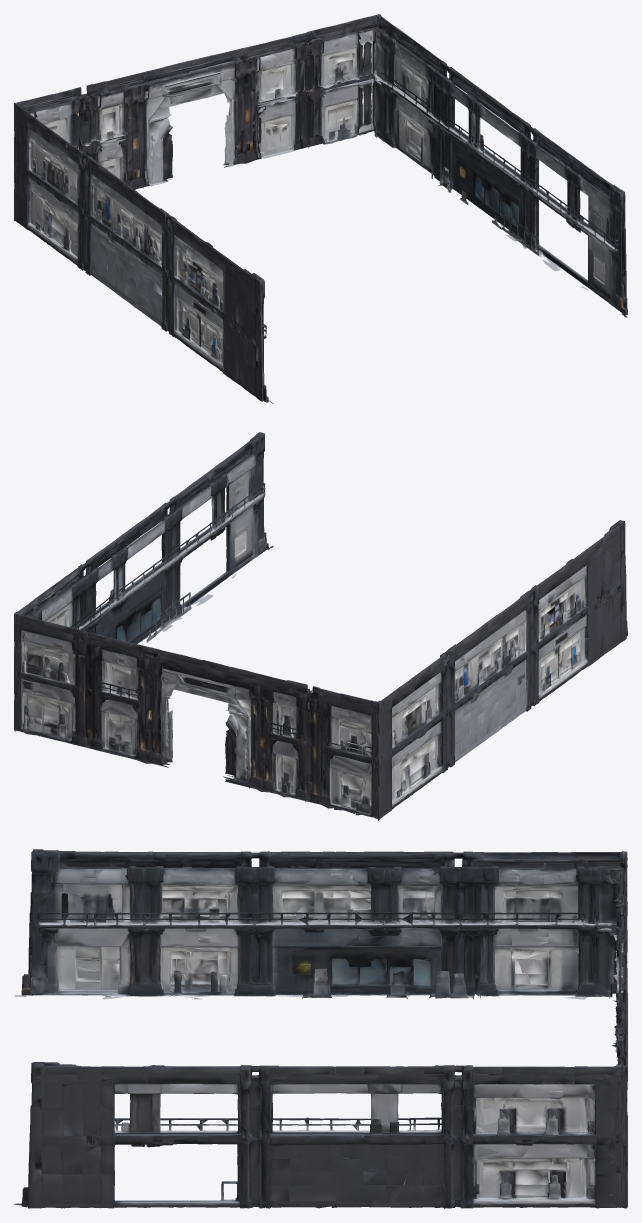
File: clinical_perimeter_packed.glb
3 views of the same model, one above another, from view 1: azimuth 30°, elevation 25°; view 2: azimuth 150°, elevation 25°; view 3: azimuth 270°, elevation 25° (orthographic). The views are drawn at different scales.
Parts seen in each view (by area): view 1: ClinicalPerimeterShell; view 2: ClinicalPerimeterShell; view 3: ClinicalPerimeterShell.
Boxes of the visible parts, left/top/right/bottom form: ClinicalPerimeterShell: left=14, top=14, right=627, bottom=403; ClinicalPerimeterShell: left=14, top=432, right=627, bottom=820; ClinicalPerimeterShell: left=14, top=849, right=627, bottom=1208.
Bounding box in the file's own units: 31.33 × 9.83 × 37.71.
Materials: 1 (1 with a texture image).
